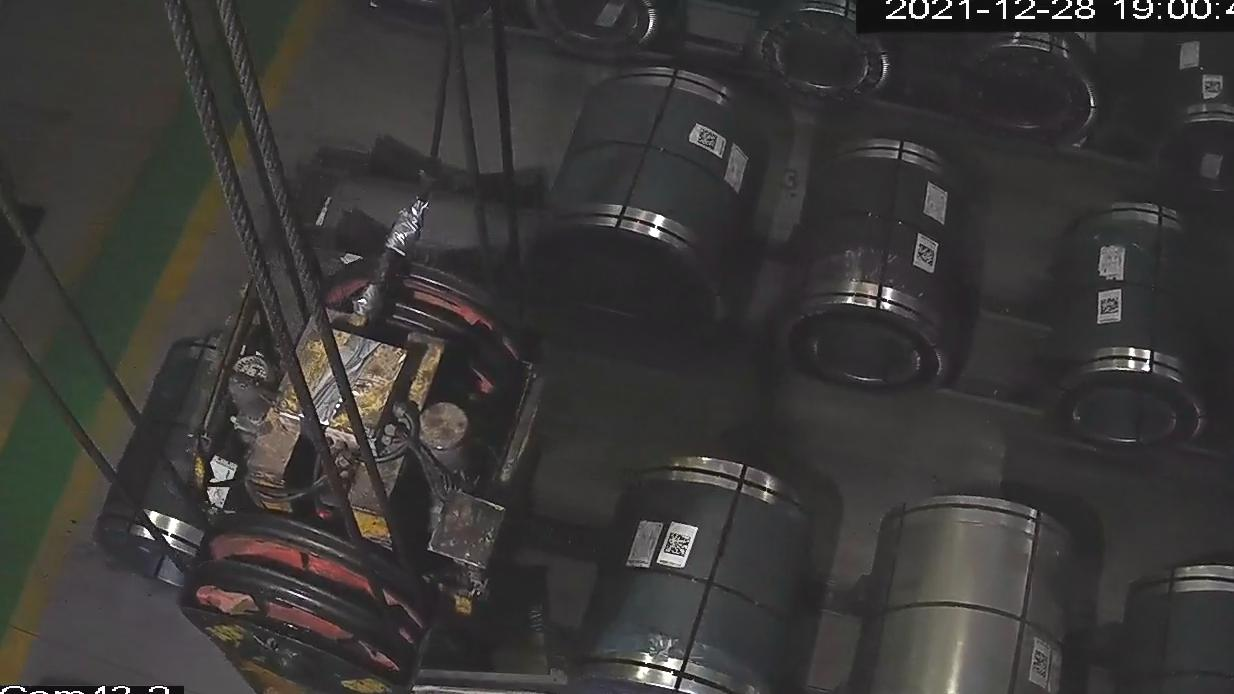data matrix: (661, 529, 694, 560), (914, 240, 939, 269), (1030, 650, 1052, 681), (696, 126, 720, 152), (1098, 296, 1122, 317), (1202, 77, 1226, 98)
